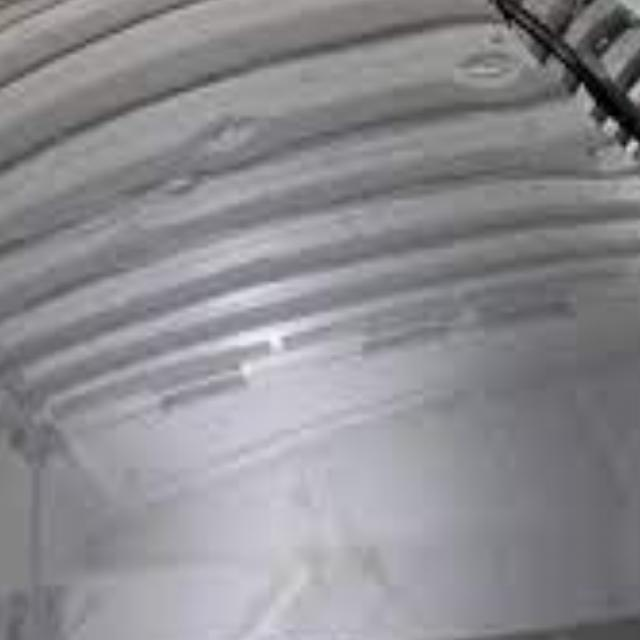dents: (116, 148, 199, 226), (459, 39, 540, 117), (193, 107, 279, 172)
